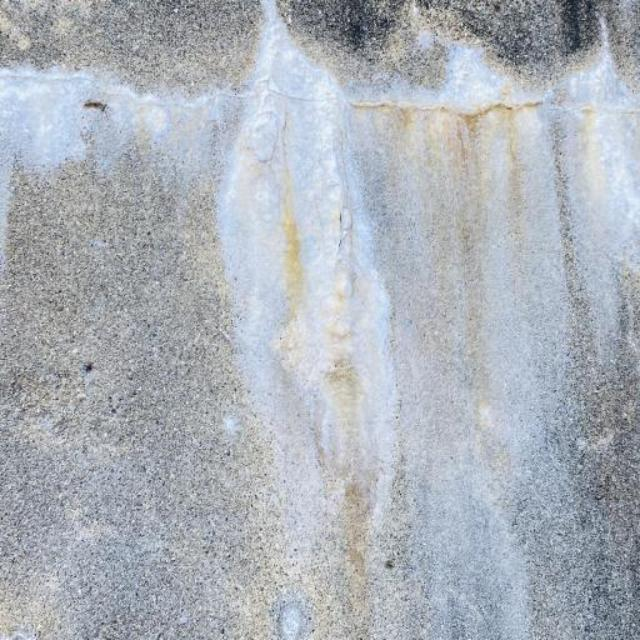D01: (0, 2, 613, 585), (134, 10, 639, 639)
